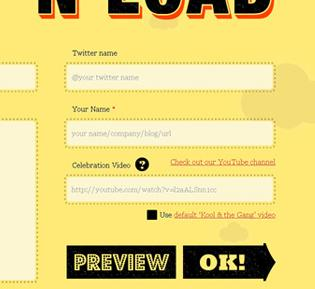button: (66, 245, 177, 279), (182, 244, 277, 279)
checkbox: (146, 208, 158, 221)
checkbox_with_label: (60, 50, 280, 95), (60, 106, 279, 151), (63, 161, 279, 206), (146, 208, 278, 222)
field: (64, 172, 278, 205), (63, 61, 278, 93), (63, 117, 277, 149)
